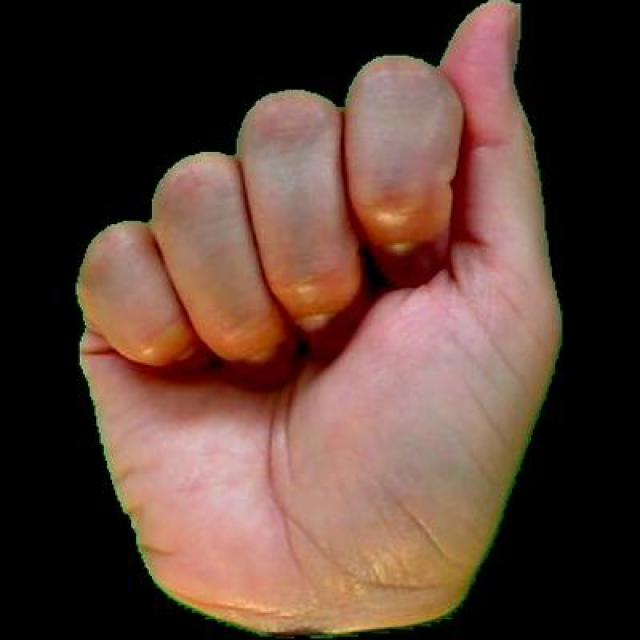a: (49, 0, 562, 637)
